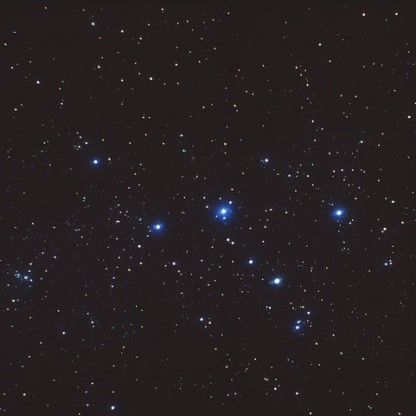Cassiopeia: (267, 268, 288, 290), (214, 199, 235, 220), (150, 215, 169, 235), (333, 199, 348, 220), (86, 152, 102, 169)
